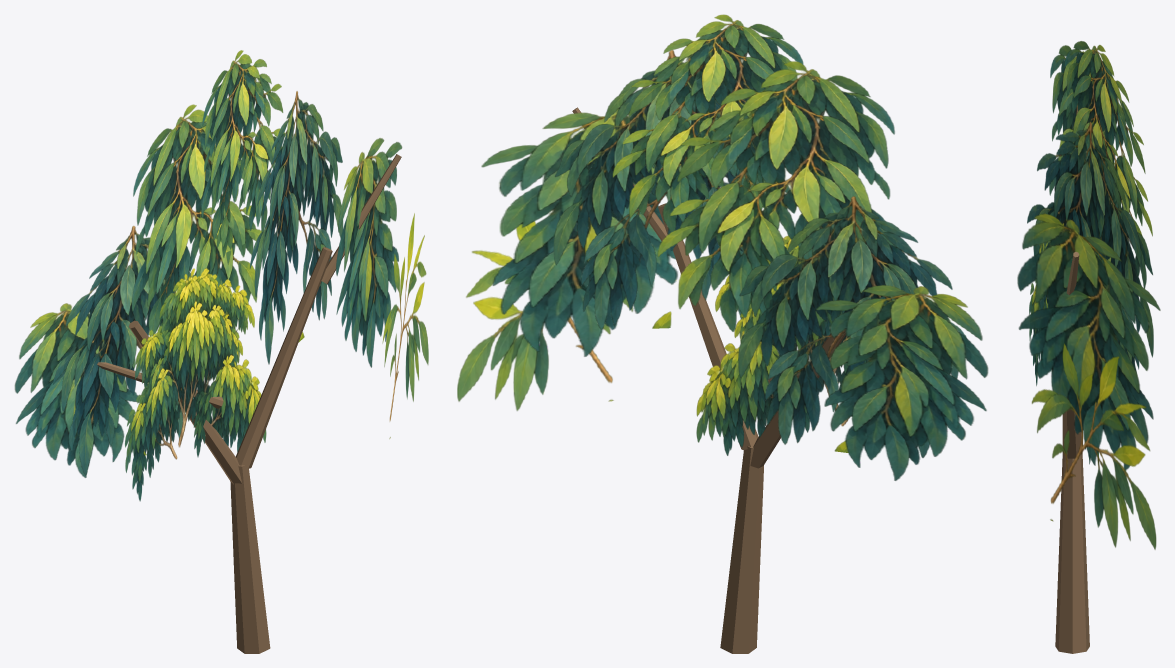
File: TREE_EUCALYPTUS_COASTAL_002@2.0.0_LOD_GAMEPLAY.glb
The picture shows the model from 3 angles, left to right: view 1: azimuth 30°, elevation 25°; view 2: azimuth 150°, elevation 25°; view 3: azimuth 270°, elevation 25°; orthographic projection. The views are drawn at different scales.
Visible parts, largest first — view 1: GG_TREE_EUCALYPTUS_COASTAL_002_CARD_05, GG_TREE_EUCALYPTUS_COASTAL_002_CARD_01, GG_TREE_EUCALYPTUS_COASTAL_002_CARD_02, GG_TREE_EUCALYPTUS_COASTAL_002_CARD_00, GG_TREE_EUCALYPTUS_COASTAL_002_CARD_07, GG_TREE_EUCALYPTUS_COASTAL_002_CARD_03, GG_TREE_EUCALYPTUS_COASTAL_002_CARD_06, GG_TREE_EUCALYPTUS_COASTAL_002_LOCKED_STRUCTURE_00, GG_TREE_EUCALYPTUS_COASTAL_002_LOCKED_STRUCTURE_02, GG_TREE_EUCALYPTUS_COASTAL_002_CARD_04, GG_TREE_EUCALYPTUS_COASTAL_002_LOCKED_STRUCTURE_01, GG_TREE_EUCALYPTUS_COASTAL_002_LOCKED_STRUCTURE_03; view 2: GG_TREE_EUCALYPTUS_COASTAL_002_CARD_01, GG_TREE_EUCALYPTUS_COASTAL_002_CARD_06, GG_TREE_EUCALYPTUS_COASTAL_002_CARD_00, GG_TREE_EUCALYPTUS_COASTAL_002_CARD_03, GG_TREE_EUCALYPTUS_COASTAL_002_CARD_02, GG_TREE_EUCALYPTUS_COASTAL_002_CARD_07, GG_TREE_EUCALYPTUS_COASTAL_002_CARD_05, GG_TREE_EUCALYPTUS_COASTAL_002_CARD_04, GG_TREE_EUCALYPTUS_COASTAL_002_LOCKED_STRUCTURE_00, GG_TREE_EUCALYPTUS_COASTAL_002_LOCKED_STRUCTURE_02, GG_TREE_EUCALYPTUS_COASTAL_002_LOCKED_STRUCTURE_01; view 3: GG_TREE_EUCALYPTUS_COASTAL_002_CARD_03, GG_TREE_EUCALYPTUS_COASTAL_002_CARD_02, GG_TREE_EUCALYPTUS_COASTAL_002_CARD_04, GG_TREE_EUCALYPTUS_COASTAL_002_CARD_07, GG_TREE_EUCALYPTUS_COASTAL_002_LOCKED_STRUCTURE_00, GG_TREE_EUCALYPTUS_COASTAL_002_CARD_01, GG_TREE_EUCALYPTUS_COASTAL_002_LOCKED_STRUCTURE_02, GG_TREE_EUCALYPTUS_COASTAL_002_CARD_05, GG_TREE_EUCALYPTUS_COASTAL_002_LOCKED_STRUCTURE_03.
Boxes of the visible parts, bbox=[...] form: GG_TREE_EUCALYPTUS_COASTAL_002_CARD_05: bbox=[125, 243, 266, 501]; GG_TREE_EUCALYPTUS_COASTAL_002_CARD_01: bbox=[131, 104, 261, 336]; GG_TREE_EUCALYPTUS_COASTAL_002_CARD_02: bbox=[250, 91, 343, 364]; GG_TREE_EUCALYPTUS_COASTAL_002_CARD_00: bbox=[53, 226, 194, 475]; GG_TREE_EUCALYPTUS_COASTAL_002_CARD_07: bbox=[201, 50, 285, 257]; GG_TREE_EUCALYPTUS_COASTAL_002_CARD_03: bbox=[336, 138, 402, 367]; GG_TREE_EUCALYPTUS_COASTAL_002_CARD_06: bbox=[14, 303, 139, 477]; GG_TREE_EUCALYPTUS_COASTAL_002_LOCKED_STRUCTURE_00: bbox=[230, 465, 270, 653]; GG_TREE_EUCALYPTUS_COASTAL_002_LOCKED_STRUCTURE_02: bbox=[236, 247, 332, 468]; GG_TREE_EUCALYPTUS_COASTAL_002_CARD_04: bbox=[382, 213, 428, 438]; GG_TREE_EUCALYPTUS_COASTAL_002_LOCKED_STRUCTURE_01: bbox=[128, 320, 241, 484]; GG_TREE_EUCALYPTUS_COASTAL_002_LOCKED_STRUCTURE_03: bbox=[321, 154, 401, 284]; GG_TREE_EUCALYPTUS_COASTAL_002_CARD_01: bbox=[657, 61, 895, 331]; GG_TREE_EUCALYPTUS_COASTAL_002_CARD_06: bbox=[816, 285, 988, 480]; GG_TREE_EUCALYPTUS_COASTAL_002_CARD_00: bbox=[738, 196, 966, 457]; GG_TREE_EUCALYPTUS_COASTAL_002_CARD_03: bbox=[481, 109, 677, 356]; GG_TREE_EUCALYPTUS_COASTAL_002_CARD_02: bbox=[553, 50, 789, 329]; GG_TREE_EUCALYPTUS_COASTAL_002_CARD_07: bbox=[612, 14, 803, 232]; GG_TREE_EUCALYPTUS_COASTAL_002_CARD_05: bbox=[696, 235, 866, 455]; GG_TREE_EUCALYPTUS_COASTAL_002_CARD_04: bbox=[457, 221, 632, 410]; GG_TREE_EUCALYPTUS_COASTAL_002_LOCKED_STRUCTURE_00: bbox=[720, 446, 763, 653]; GG_TREE_EUCALYPTUS_COASTAL_002_LOCKED_STRUCTURE_02: bbox=[658, 203, 758, 450]; GG_TREE_EUCALYPTUS_COASTAL_002_LOCKED_STRUCTURE_01: bbox=[750, 331, 846, 468]; GG_TREE_EUCALYPTUS_COASTAL_002_CARD_03: bbox=[1017, 213, 1160, 470]; GG_TREE_EUCALYPTUS_COASTAL_002_CARD_02: bbox=[1027, 121, 1153, 372]; GG_TREE_EUCALYPTUS_COASTAL_002_CARD_04: bbox=[1031, 343, 1156, 549]; GG_TREE_EUCALYPTUS_COASTAL_002_CARD_07: bbox=[1064, 41, 1152, 251]; GG_TREE_EUCALYPTUS_COASTAL_002_LOCKED_STRUCTURE_00: bbox=[1055, 452, 1089, 653]; GG_TREE_EUCALYPTUS_COASTAL_002_CARD_01: bbox=[1049, 45, 1121, 289]; GG_TREE_EUCALYPTUS_COASTAL_002_LOCKED_STRUCTURE_02: bbox=[1062, 397, 1082, 458]; GG_TREE_EUCALYPTUS_COASTAL_002_CARD_05: bbox=[1029, 223, 1098, 464]; GG_TREE_EUCALYPTUS_COASTAL_002_LOCKED_STRUCTURE_03: bbox=[1066, 252, 1079, 295].
Bounding box in the file's own units: 33.34 × 41.64 × 8.99.
Materials: 2 (1 with a texture image).
